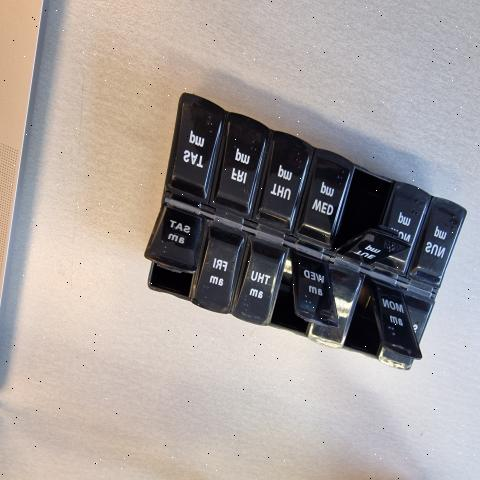Open: (334, 168, 412, 246), (271, 247, 313, 337), (344, 278, 384, 358), (145, 256, 197, 299)
